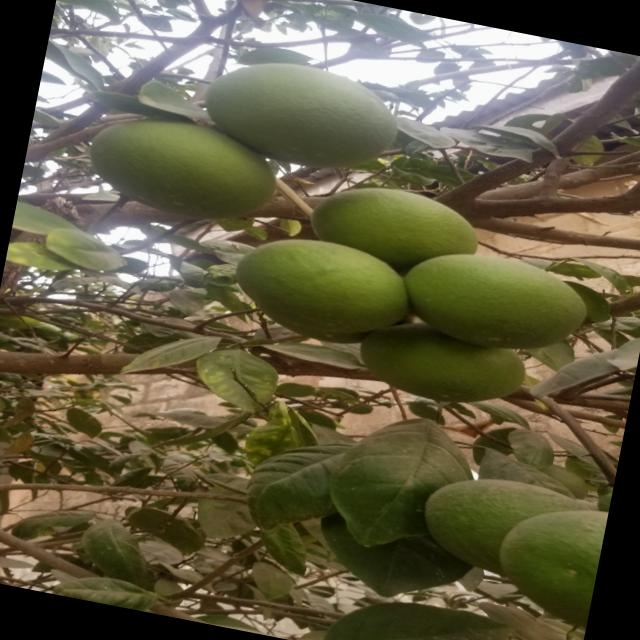agrume: (74, 88, 298, 241), (191, 43, 416, 184), (382, 231, 606, 369), (218, 224, 425, 353), (396, 454, 584, 595), (302, 168, 493, 291)
